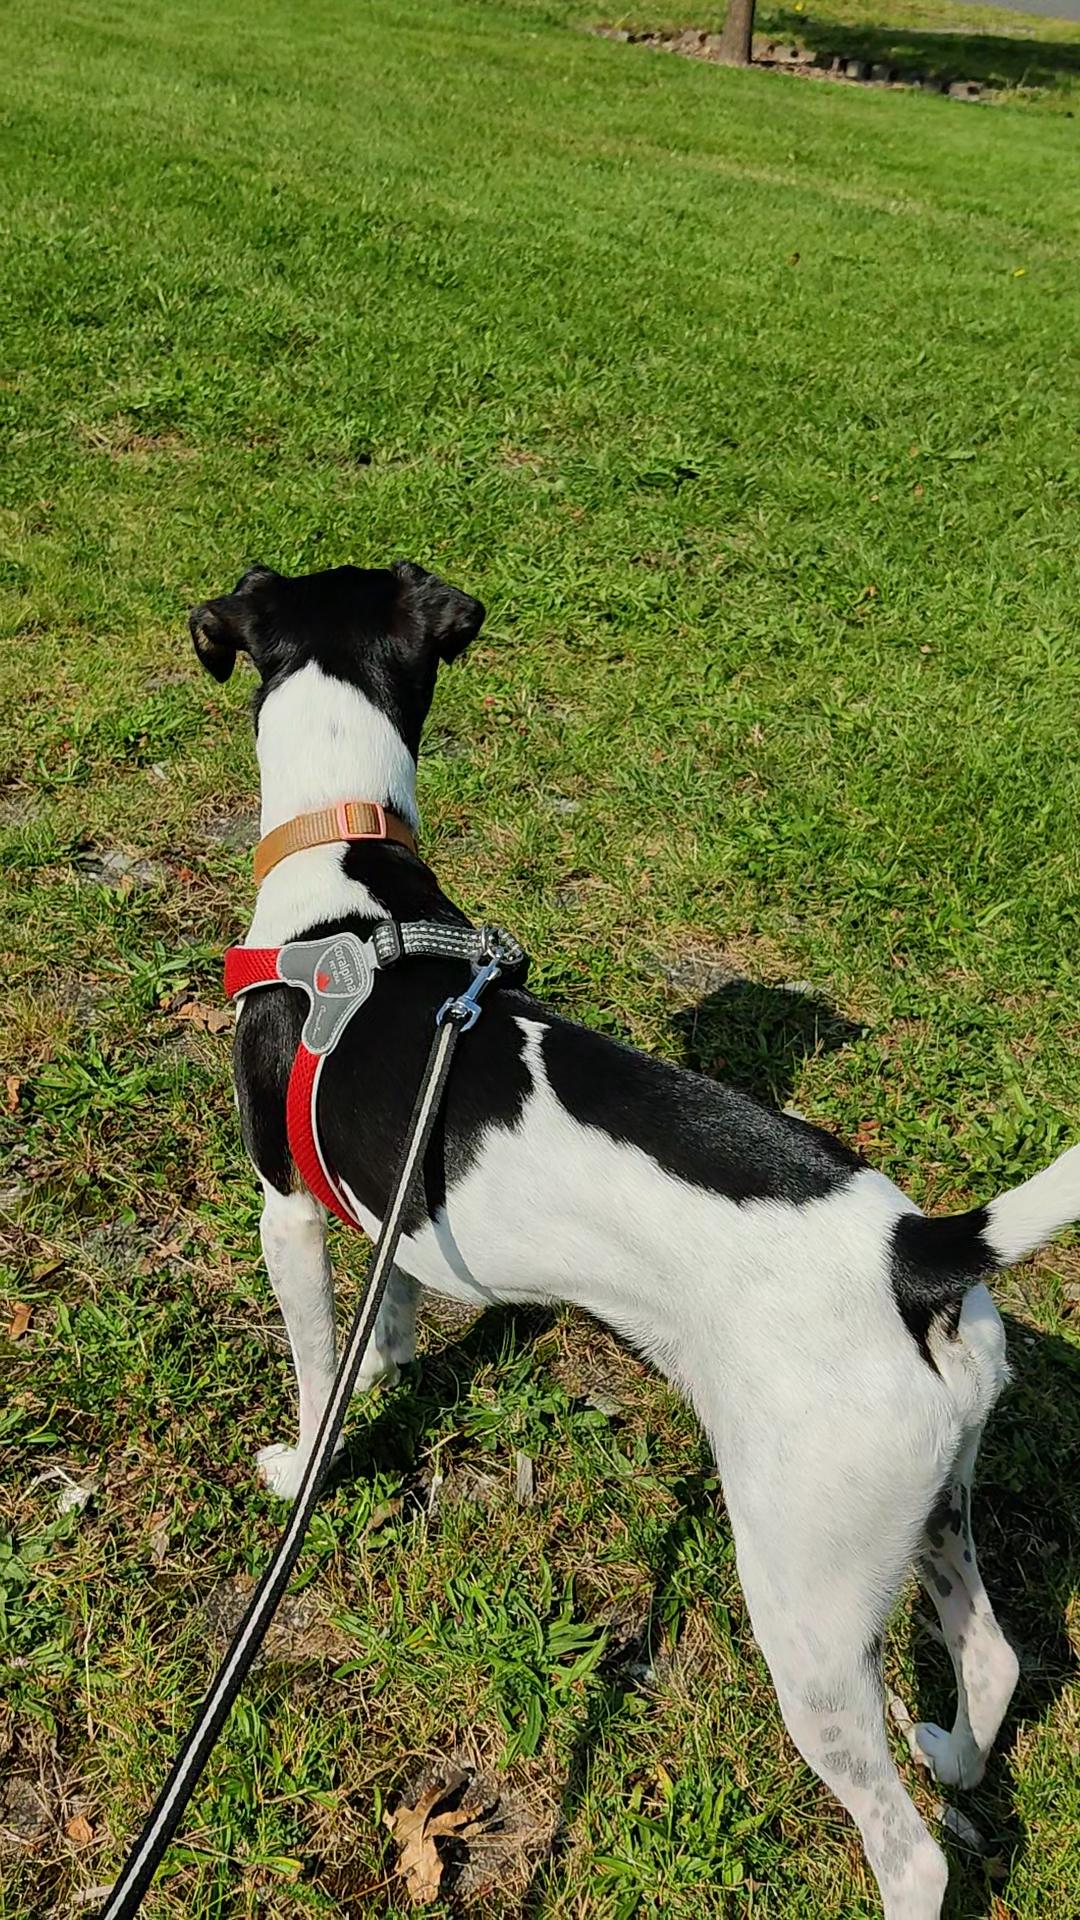Dog: (175, 551, 1079, 1919)
